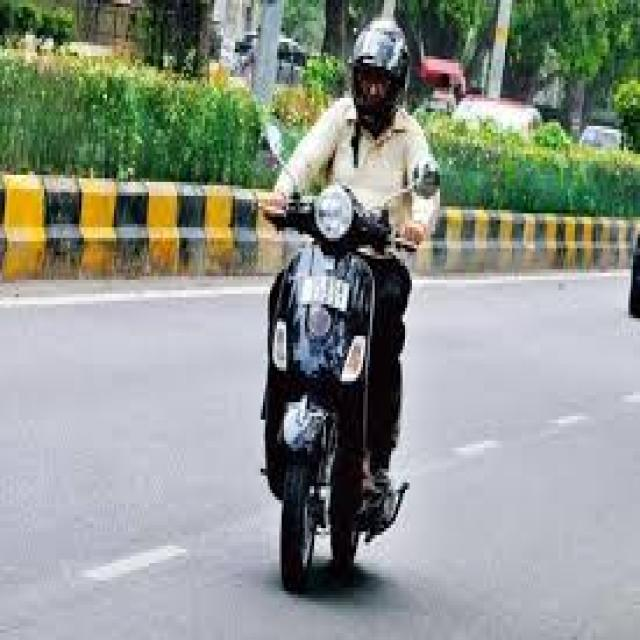Numberplate: (301, 274, 354, 314)
bike: (248, 116, 439, 600)
helmet: (347, 12, 422, 130)
